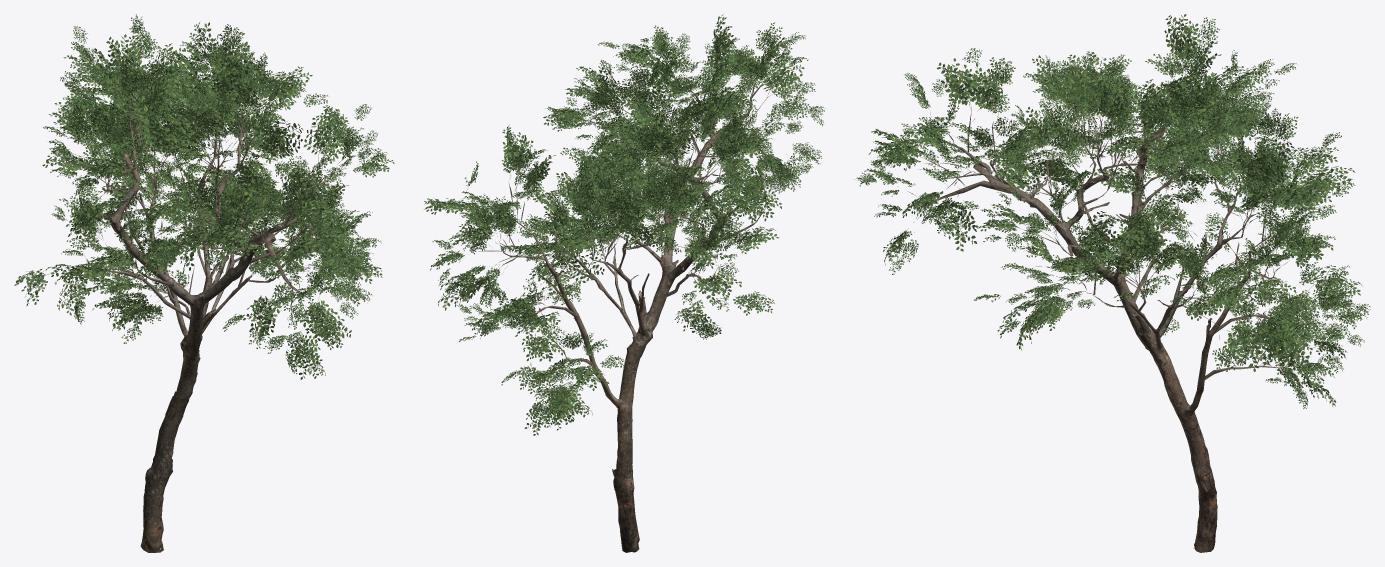
Rendered from tree.glb.
3 views of the same model, side by side, from view 1: azimuth 30°, elevation 25°; view 2: azimuth 150°, elevation 25°; view 3: azimuth 270°, elevation 25° (orthographic). The views are drawn at different scales.
Parts seen in each view (by area): view 1: StaticAssembly; view 2: StaticAssembly; view 3: StaticAssembly.
Part boxes in pixels (x1,y1,x2,y2): StaticAssembly: (14,14,394,552); StaticAssembly: (424,14,825,552); StaticAssembly: (854,14,1370,552).
Bounding box in the file's own units: 2.92 × 4.56 × 4.29.
3 materials, 3 textured.
